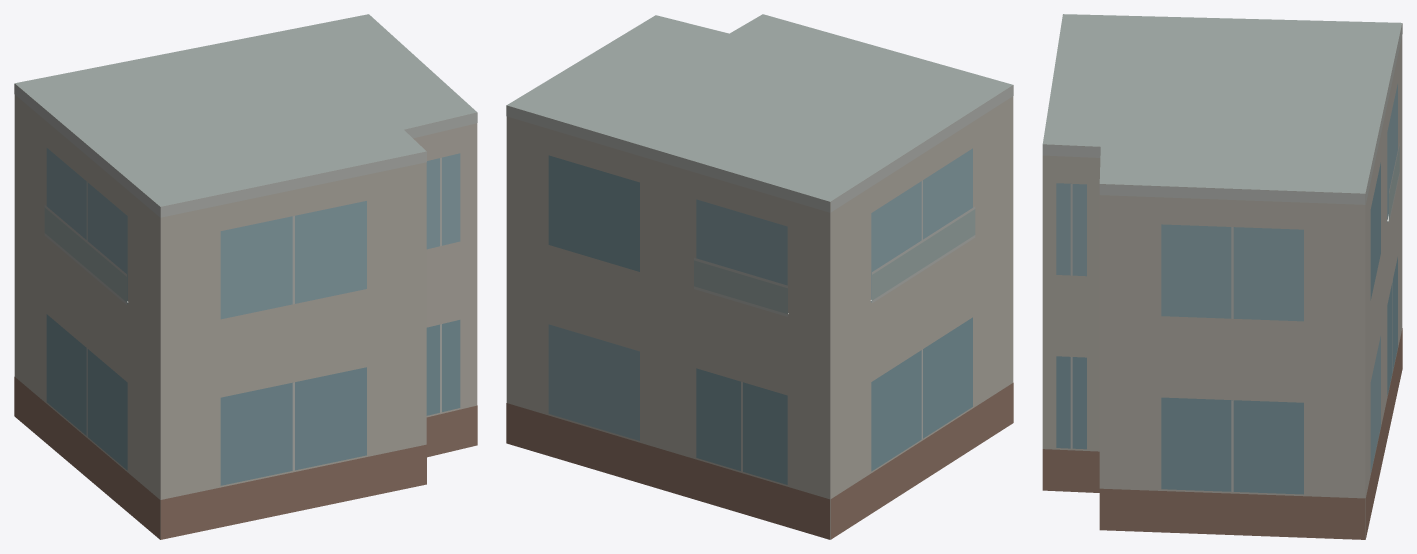
Rendered from survey-upis-32544563.glb.
3 views of the same model, side by side, from view 1: azimuth 30°, elevation 25°; view 2: azimuth 150°, elevation 25°; view 3: azimuth 270°, elevation 25° (orthographic). The views are drawn at different scales.
Parts seen in each view (by area): view 1: survey-upis-32544563.tmp; view 2: survey-upis-32544563.tmp; view 3: survey-upis-32544563.tmp.
Part boxes in pixels (x1,y1,x2,y2): survey-upis-32544563.tmp: [14, 14, 477, 539]; survey-upis-32544563.tmp: [506, 14, 1013, 539]; survey-upis-32544563.tmp: [1042, 14, 1402, 539].
Bounding box in the file's own units: 8.36 × 7.5 × 7.07.
